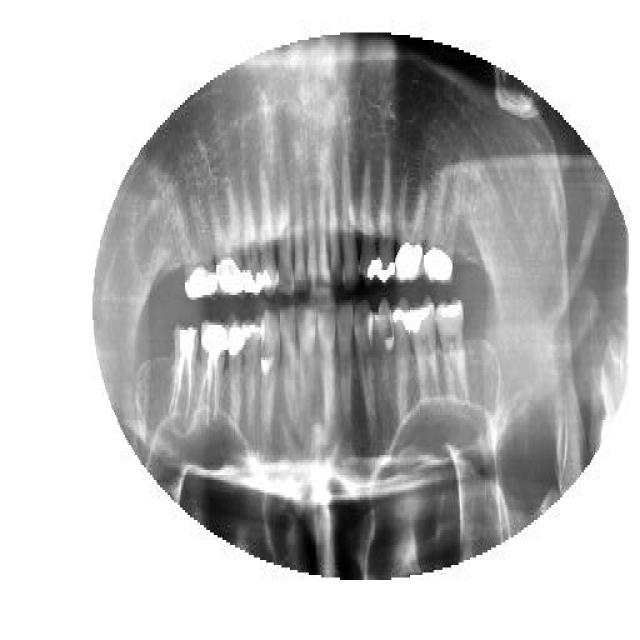Fillings: (175, 192, 217, 300), (210, 182, 245, 300), (408, 295, 442, 405), (424, 162, 455, 282), (395, 163, 425, 285), (438, 297, 468, 405), (376, 147, 395, 285), (241, 173, 261, 295), (358, 163, 378, 285), (242, 312, 262, 430), (390, 295, 409, 417), (260, 180, 278, 300), (228, 317, 242, 435)
Implant: (196, 320, 226, 430), (170, 317, 199, 425)
